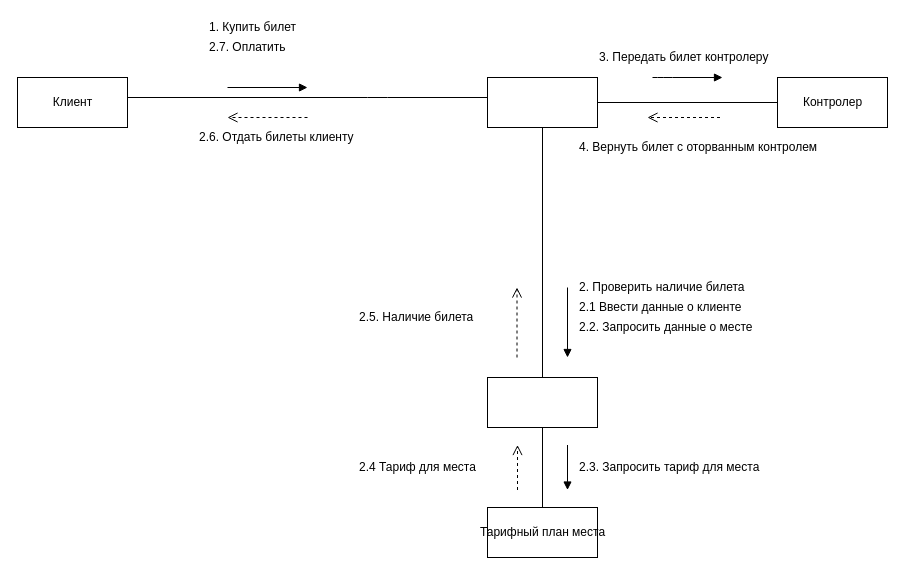
Some shapes in this 905 by 575 pixel diagram are drawn without their labels. Each missing label, with the box of its shape:
Кассир: (486, 76, 598, 128)
Система: (486, 376, 598, 428)
